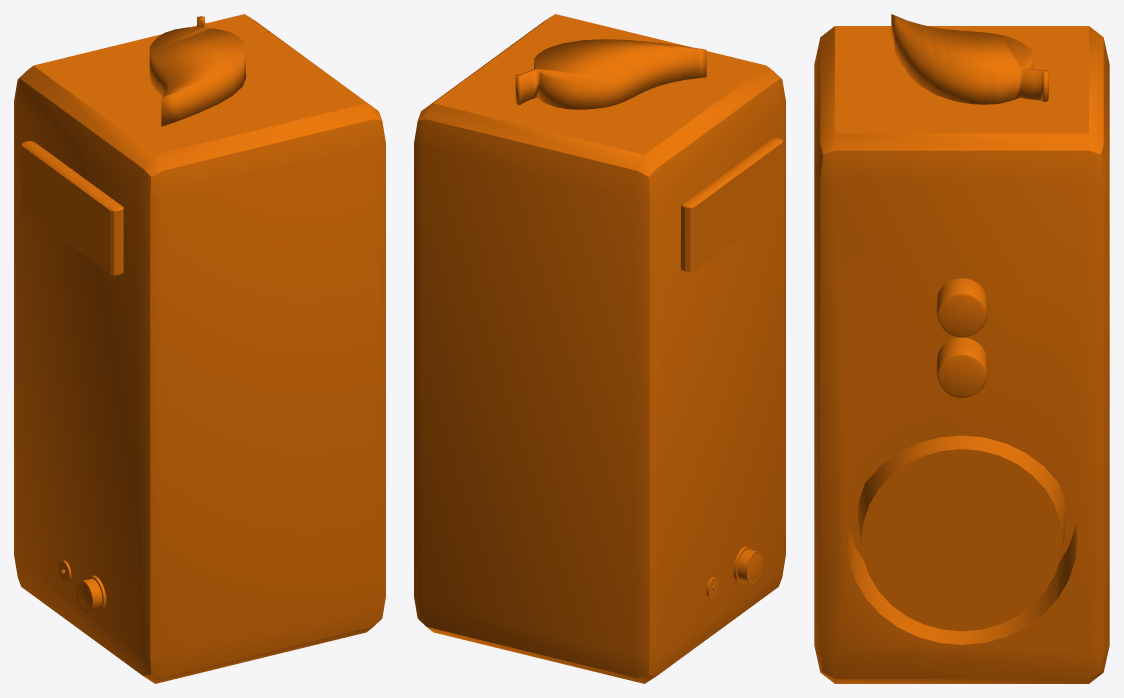
The model's file is speaker_low.fbx.
3 renders of one model, left to right at view 1: azimuth 30°, elevation 25°; view 2: azimuth 150°, elevation 25°; view 3: azimuth 270°, elevation 25°, orthographic. The views are drawn at different scales.
Visible parts, largest first — view 1: speak_low, leaf_low; view 2: speak_low, leaf_low; view 3: speak_low, leaf_low.
Part boxes in pixels (x1,y1,x2,y2): speak_low: (14,14,385,683); leaf_low: (149,16,245,126); speak_low: (414,14,785,683); leaf_low: (515,39,706,109); speak_low: (814,26,1109,683); leaf_low: (891,14,1048,104).
Bounding box in the file's own units: 239 × 433 × 200.
